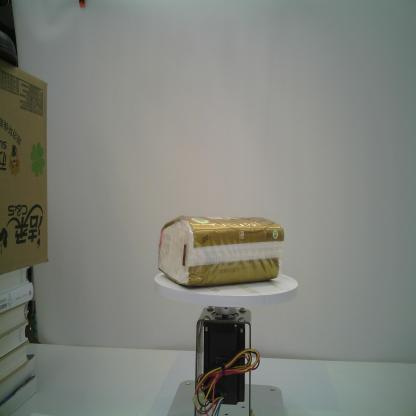Tissue: (159, 215, 285, 286)
